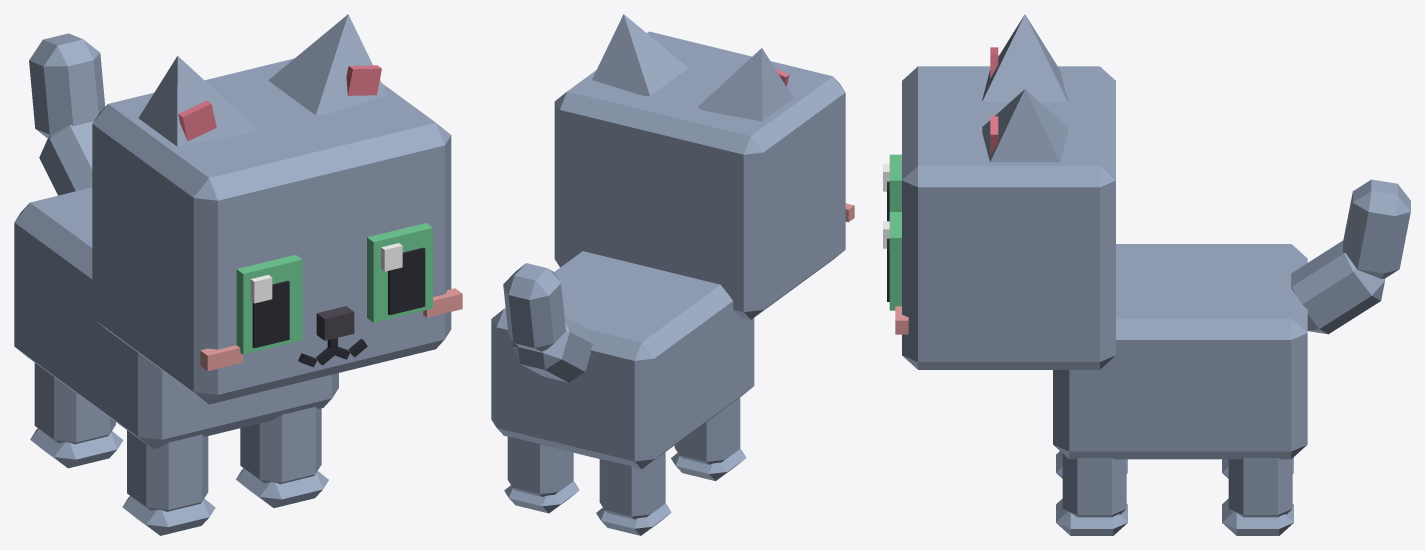
Rendered from CatCafe_Cat_Blue.glb.
3 renders of one model, left to right at view 1: azimuth 30°, elevation 25°; view 2: azimuth 150°, elevation 25°; view 3: azimuth 270°, elevation 25°, orthographic. The views are drawn at different scales.
Parts seen in each view (by area): view 1: CatCafe_Cat_Blue_Head, CatCafe_Cat_Blue_Body, CatCafe_Cat_Blue_Tail, CatCafe_Cat_Blue_LegF2, CatCafe_Cat_Blue_LegF1, CatCafe_Cat_Blue_EarL, CatCafe_Cat_Blue_Eye2, CatCafe_Cat_Blue_Eye1, CatCafe_Cat_Blue_LegB2, CatCafe_Cat_Blue_EarR; view 2: CatCafe_Cat_Blue_Head, CatCafe_Cat_Blue_Body, CatCafe_Cat_Blue_Tail, CatCafe_Cat_Blue_LegB2, CatCafe_Cat_Blue_EarL, CatCafe_Cat_Blue_LegB1, CatCafe_Cat_Blue_EarR, CatCafe_Cat_Blue_LegF2; view 3: CatCafe_Cat_Blue_Head, CatCafe_Cat_Blue_Body, CatCafe_Cat_Blue_Tail, CatCafe_Cat_Blue_LegF1, CatCafe_Cat_Blue_LegB1, CatCafe_Cat_Blue_EarL, CatCafe_Cat_Blue_EarR, CatCafe_Cat_Blue_Eye1, CatCafe_Cat_Blue_Eye2.
Boxes of the visible parts, <box> form: CatCafe_Cat_Blue_Head: <box>92,58,462,404</box>; CatCafe_Cat_Blue_Body: <box>14,187,338,449</box>; CatCafe_Cat_Blue_Tail: <box>29,33,105,195</box>; CatCafe_Cat_Blue_LegF2: <box>122,430,215,535</box>; CatCafe_Cat_Blue_LegF1: <box>236,406,328,507</box>; CatCafe_Cat_Blue_EarL: <box>268,14,387,115</box>; CatCafe_Cat_Blue_Eye2: <box>236,254,302,354</box>; CatCafe_Cat_Blue_Eye1: <box>367,223,432,322</box>; CatCafe_Cat_Blue_LegB2: <box>30,362,123,468</box>; CatCafe_Cat_Blue_EarR: <box>138,56,257,146</box>; CatCafe_Cat_Blue_Head: <box>554,31,854,319</box>; CatCafe_Cat_Blue_Body: <box>491,251,754,469</box>; CatCafe_Cat_Blue_Tail: <box>503,263,592,382</box>; CatCafe_Cat_Blue_LegB2: <box>596,452,671,535</box>; CatCafe_Cat_Blue_EarL: <box>592,14,688,95</box>; CatCafe_Cat_Blue_LegB1: <box>504,437,579,513</box>; CatCafe_Cat_Blue_EarR: <box>697,48,793,121</box>; CatCafe_Cat_Blue_LegF2: <box>671,397,746,481</box>; CatCafe_Cat_Blue_Head: <box>895,66,1115,369</box>; CatCafe_Cat_Blue_Body: <box>1053,244,1307,459</box>; CatCafe_Cat_Blue_Tail: <box>1291,179,1410,334</box>; CatCafe_Cat_Blue_LegF1: <box>1056,454,1127,535</box>; CatCafe_Cat_Blue_LegB1: <box>1222,458,1293,535</box>; CatCafe_Cat_Blue_EarL: <box>982,89,1067,162</box>; CatCafe_Cat_Blue_EarR: <box>982,14,1067,101</box>; CatCafe_Cat_Blue_Eye1: <box>883,212,901,310</box>; CatCafe_Cat_Blue_Eye2: <box>883,154,901,221</box>.
Bounding box in the file's own units: 1 × 1.86 × 1.97.
Materials: 1 (1 with a texture image).
